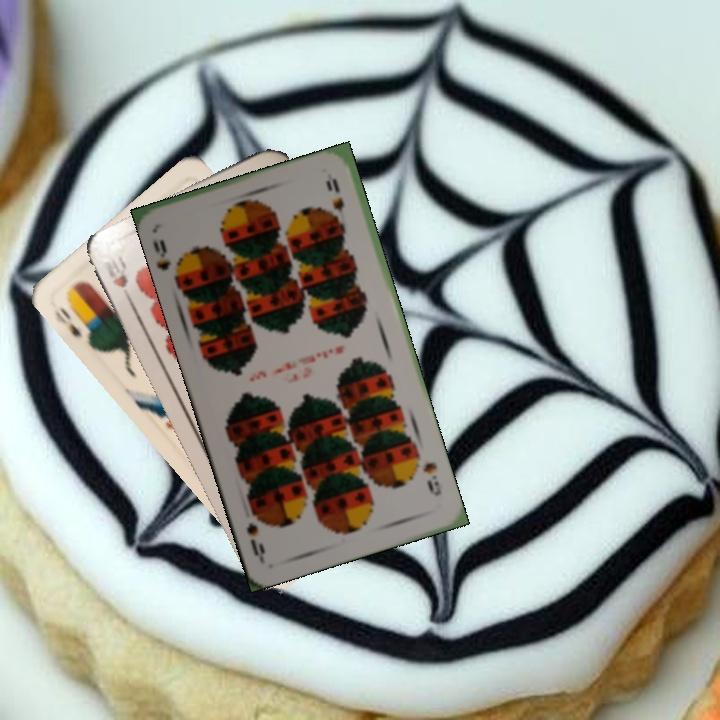EO: (49, 293, 94, 345)
H10: (96, 251, 136, 307)
S9: (419, 458, 444, 499), (149, 235, 174, 274)
